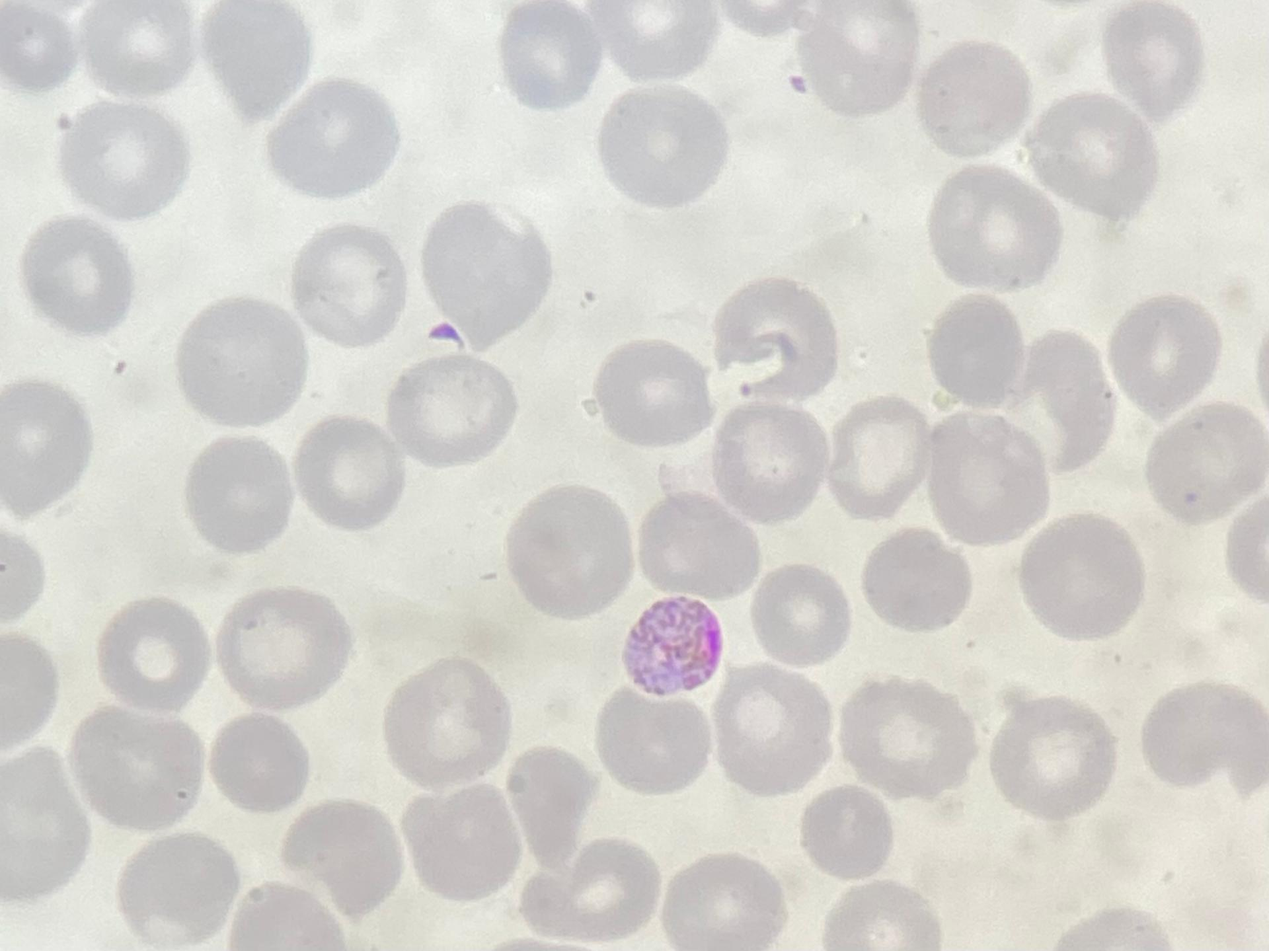Infected: (621, 593, 724, 699)
Uninfected: (420, 202, 551, 344), (502, 484, 633, 617), (381, 658, 513, 789), (176, 296, 309, 424), (837, 674, 970, 801), (71, 704, 205, 829), (215, 586, 348, 711), (925, 411, 1050, 542), (1031, 93, 1159, 218), (927, 165, 1058, 287), (711, 276, 839, 398), (266, 79, 396, 199), (1017, 514, 1142, 638), (989, 695, 1114, 818), (276, 796, 401, 919), (59, 101, 188, 220), (597, 87, 726, 206), (711, 667, 833, 792), (1143, 402, 1266, 524), (519, 835, 659, 942), (1140, 681, 1268, 798), (400, 784, 525, 903), (387, 354, 516, 466), (711, 400, 830, 521), (113, 833, 239, 947), (289, 223, 407, 344), (1018, 330, 1118, 472), (95, 597, 213, 715), (917, 40, 1038, 155), (1108, 293, 1221, 416), (636, 490, 759, 603), (1, 744, 92, 896), (21, 214, 134, 334), (797, 4, 919, 114), (182, 435, 294, 554), (590, 338, 712, 447), (292, 415, 405, 529), (825, 396, 932, 516), (0, 379, 93, 515), (925, 293, 1034, 409), (203, 1, 309, 118), (596, 686, 711, 793), (660, 853, 784, 951), (861, 527, 972, 633), (1104, 1, 1204, 116), (81, 1, 194, 99), (504, 745, 594, 864), (208, 710, 311, 813), (750, 563, 851, 665), (497, 3, 597, 106), (592, 1, 712, 81), (800, 782, 895, 878), (224, 881, 347, 948), (820, 881, 937, 951), (1, 3, 79, 91)
